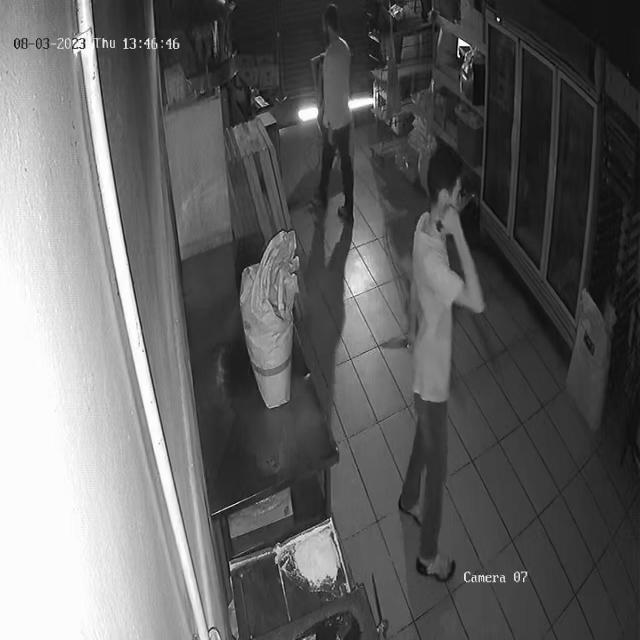Knife: (375, 329, 418, 370)
